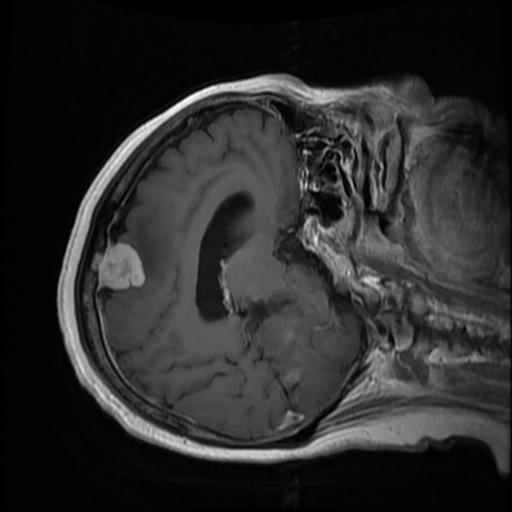meningioma: (98, 243, 145, 289)
